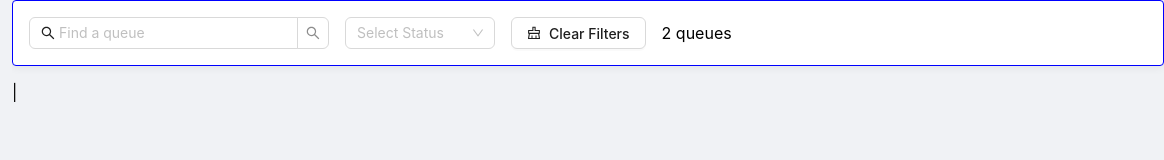
Test case: FilterBar › updates search text and clears active criteria
Type "orders" into the search field with placeholder "Find a queue" at (164, 33), box [59, 22, 270, 44]
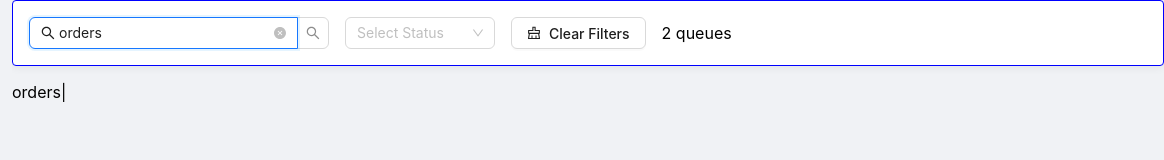
Expected: the text "2 queues" is shown, [662, 23, 732, 43]
Expected: the text with test id "filter-state" reads "orders|", [12, 82, 61, 102]
Click the button "Clear Filters" at (578, 33), box [511, 17, 646, 49]
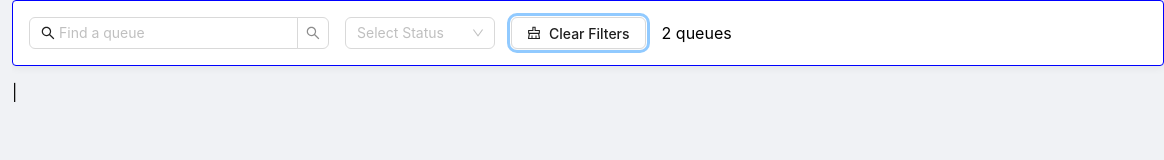
Expected: the text with test id "filter-state" reads "|", [12, 82, 17, 102]
Expected: the search field with placeholder "Find a queue" is empty, [59, 22, 270, 44]
